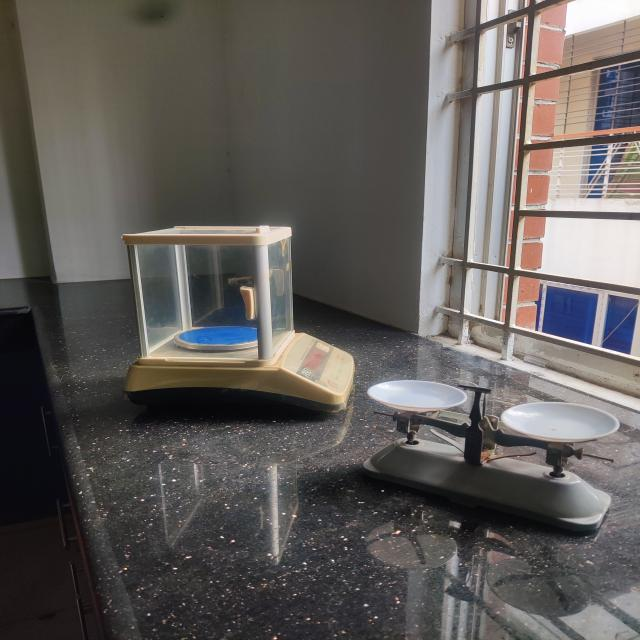Mechanical_Balance_Scale: (346, 351, 632, 570)
Precision_Weight_Scale: (82, 204, 362, 432)
